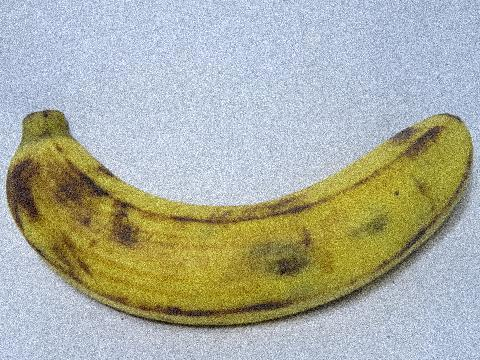overripe: (0, 100, 479, 339)
